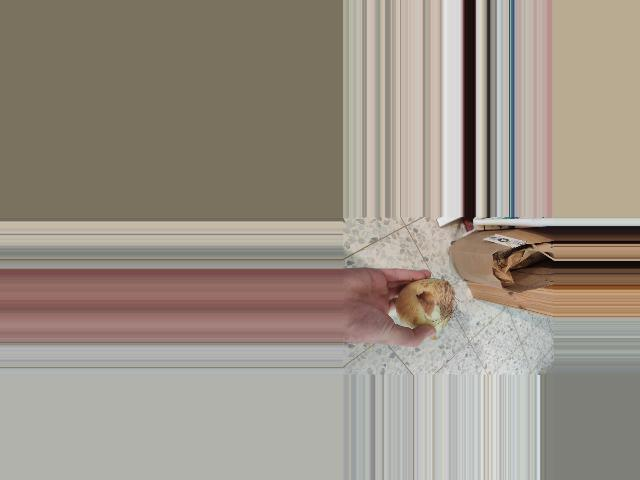onion: (392, 277, 454, 341)
